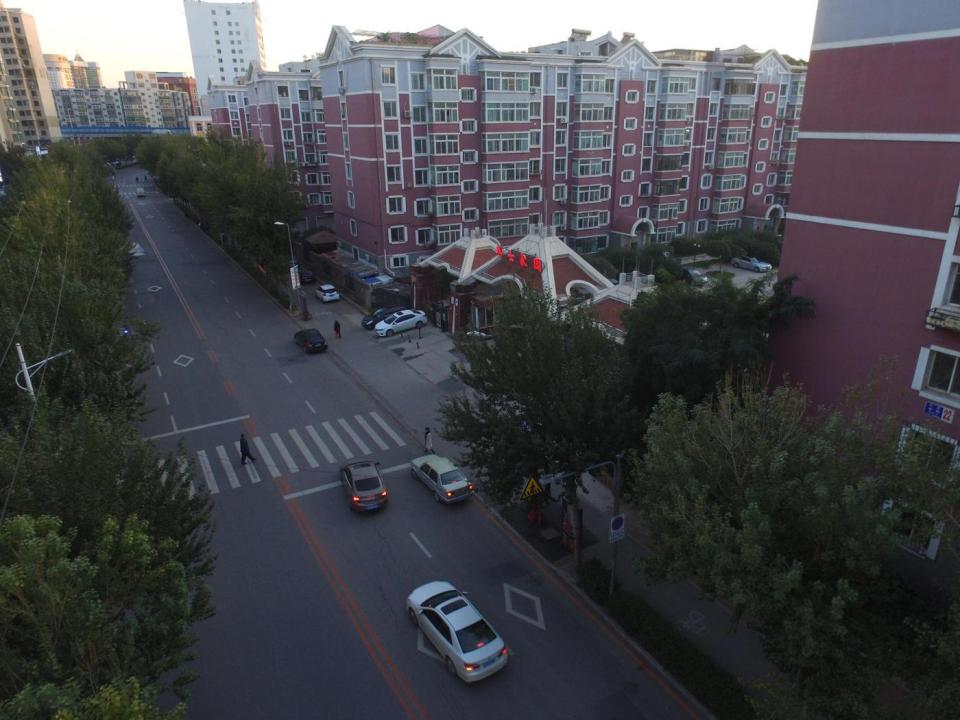car: (405, 578, 510, 684), (410, 454, 475, 503), (340, 456, 390, 515), (374, 308, 428, 337), (360, 303, 416, 329), (294, 327, 329, 355), (314, 284, 340, 304), (280, 252, 301, 273), (297, 266, 316, 283), (136, 187, 145, 197)
